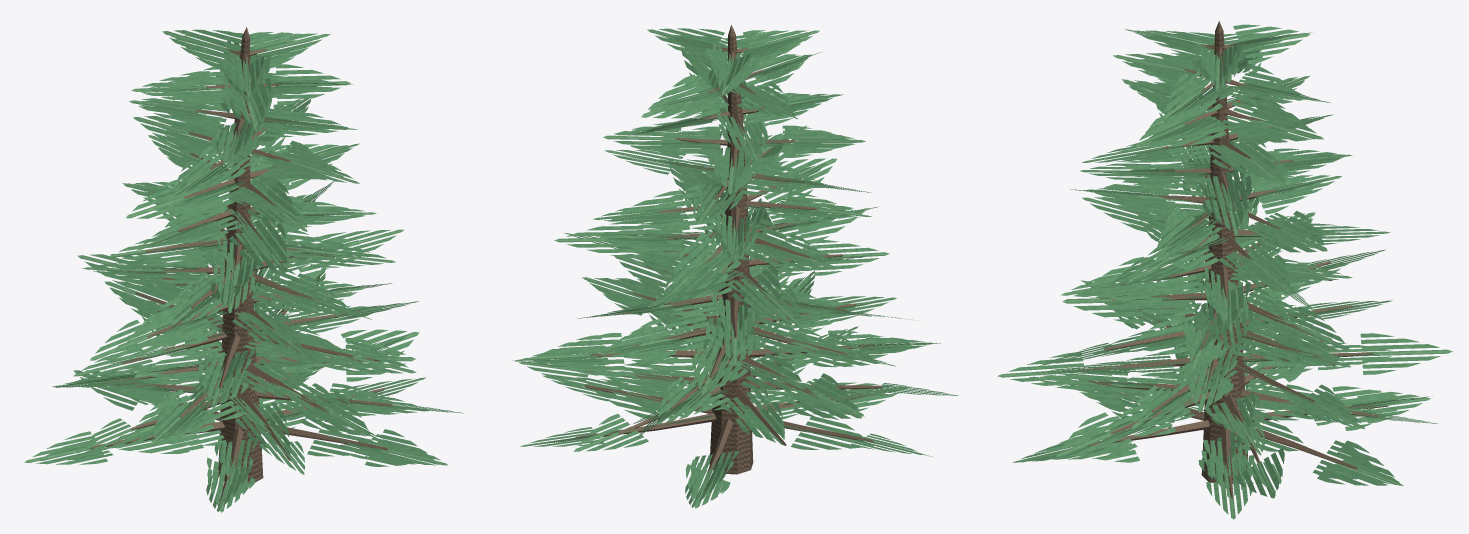
Rendered from 가문비_01.fbx.
3 views of the same model, side by side, from view 1: azimuth 30°, elevation 25°; view 2: azimuth 150°, elevation 25°; view 3: azimuth 270°, elevation 25° (orthographic). The views are drawn at different scales.
Visible parts, largest first — view 1: 가문비_01; view 2: 가문비_01; view 3: 가문비_01.
Part boxes in pixels (bbox=[...]): 가문비_01: bbox=[24, 27, 463, 512]; 가문비_01: bbox=[513, 25, 958, 508]; 가문비_01: bbox=[997, 21, 1452, 519].
Size of the model in its own units: 10598 by 10830 by 9926.
2 materials, 2 textured.
